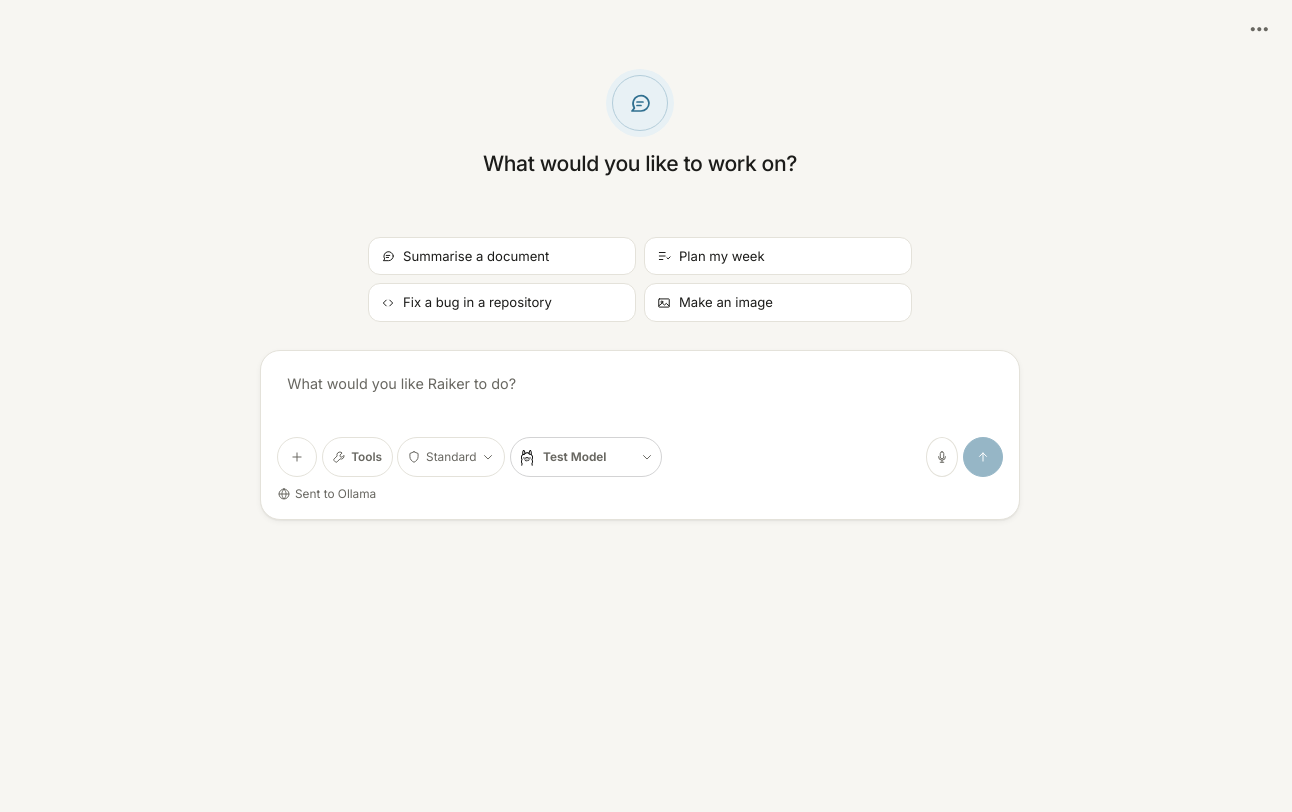
ChatView composer parity › renders its background-work rail beside the chat column, not below the composer
Expected: the button "Background work" is not shown
Click the button named "Conversation actions": x=1259, y=28 [1239,12,1280,44]
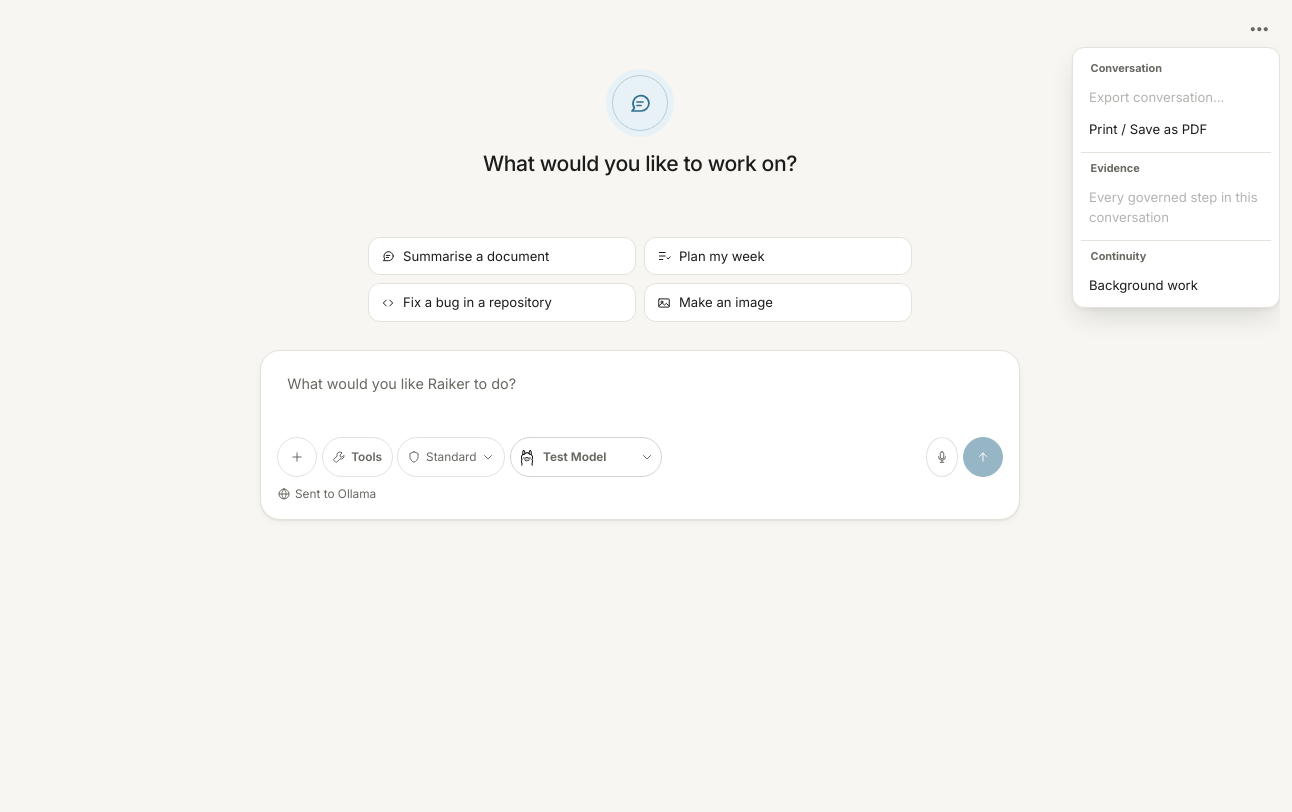
Click the menu item "Background work": x=1176, y=285 [1081,271,1271,299]
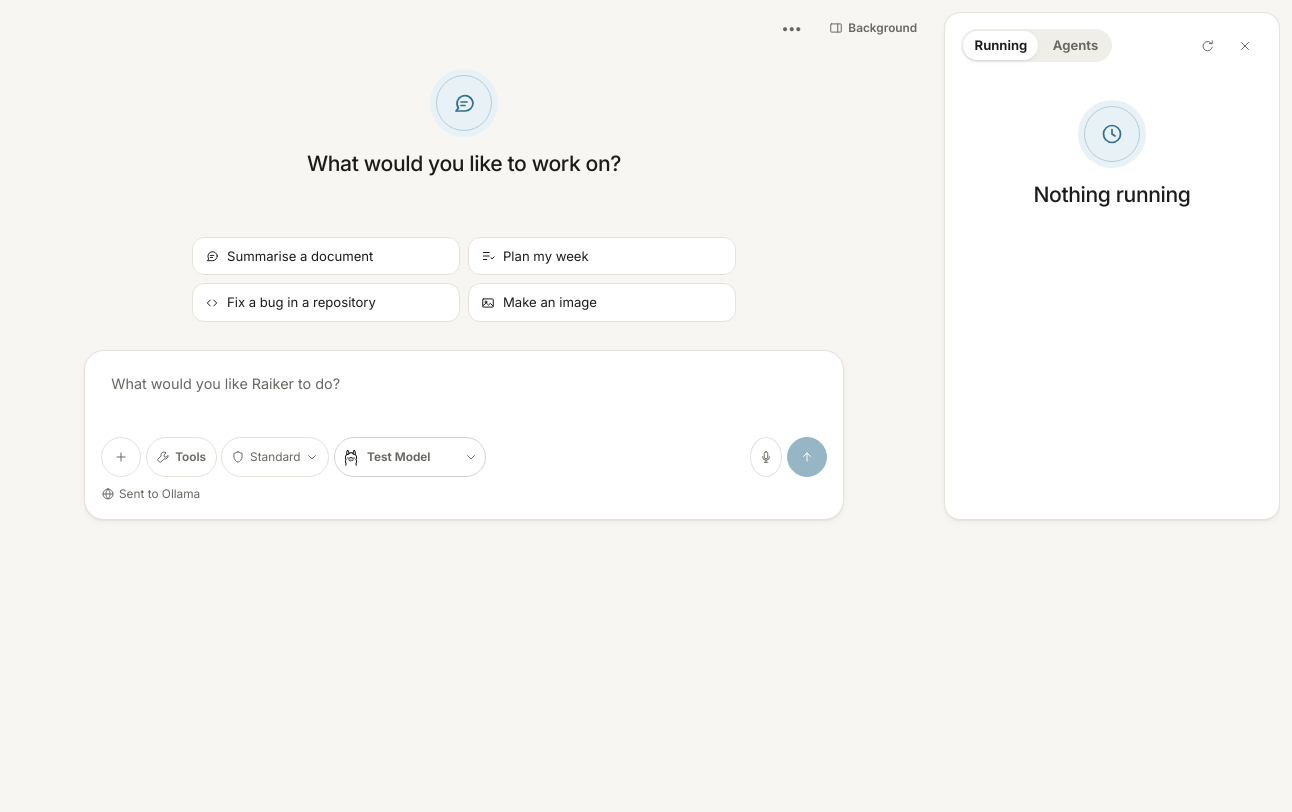
Now the element named "Background work" is shown, box [944,12,1280,520]
Now the menu item "Background work" is gone
Click the button named "Add to this turn": x=121, y=457 [101,437,141,477]
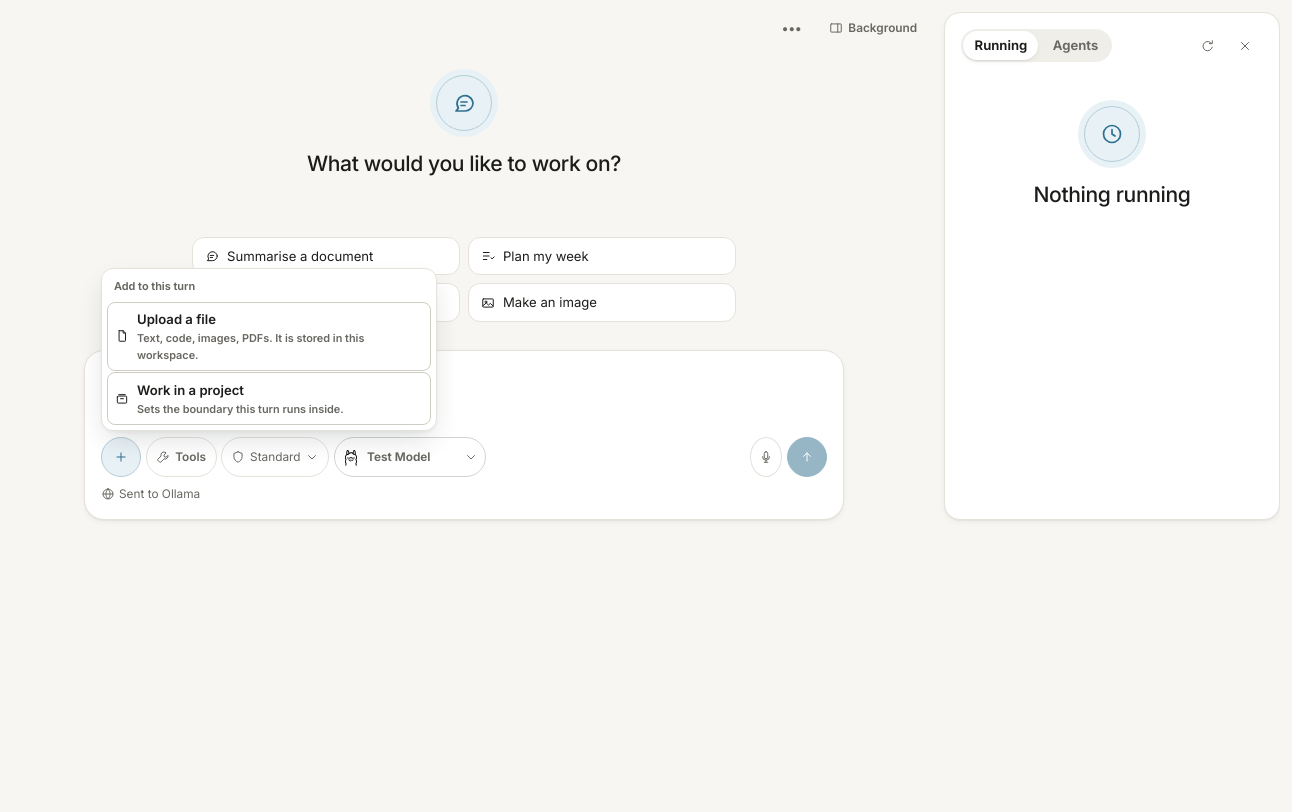
Click the menu item "Work in a project": x=190, y=390 [107,372,431,425]
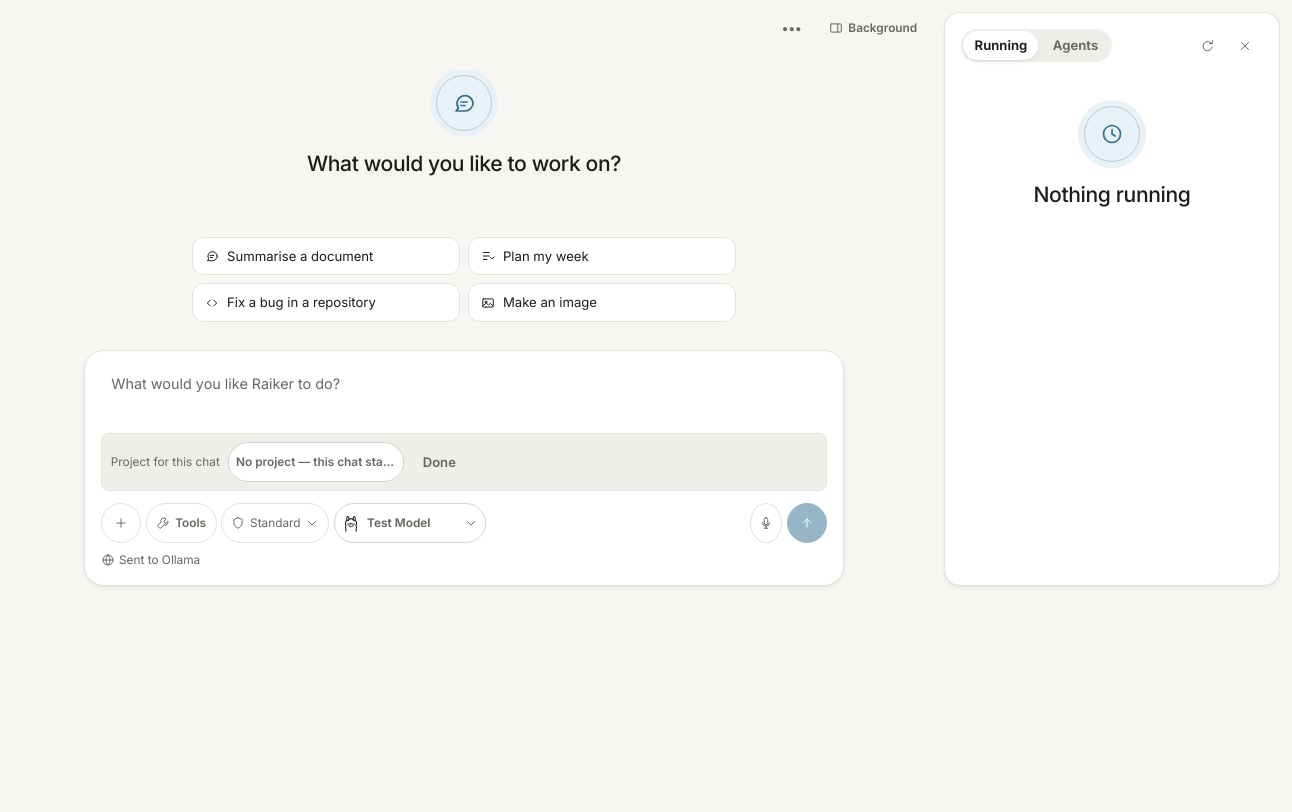
Now the dropdown labelled "Project for this chat" is shown, box [228,442,404,482]
